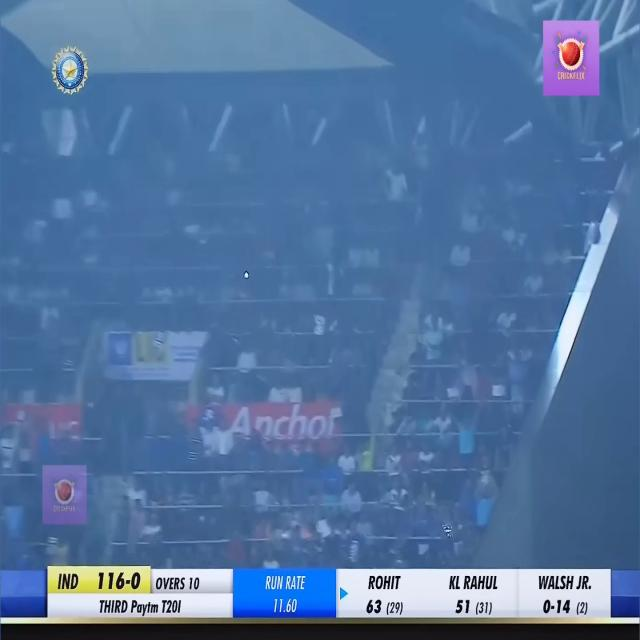fully_visible: (131, 592, 159, 619)
